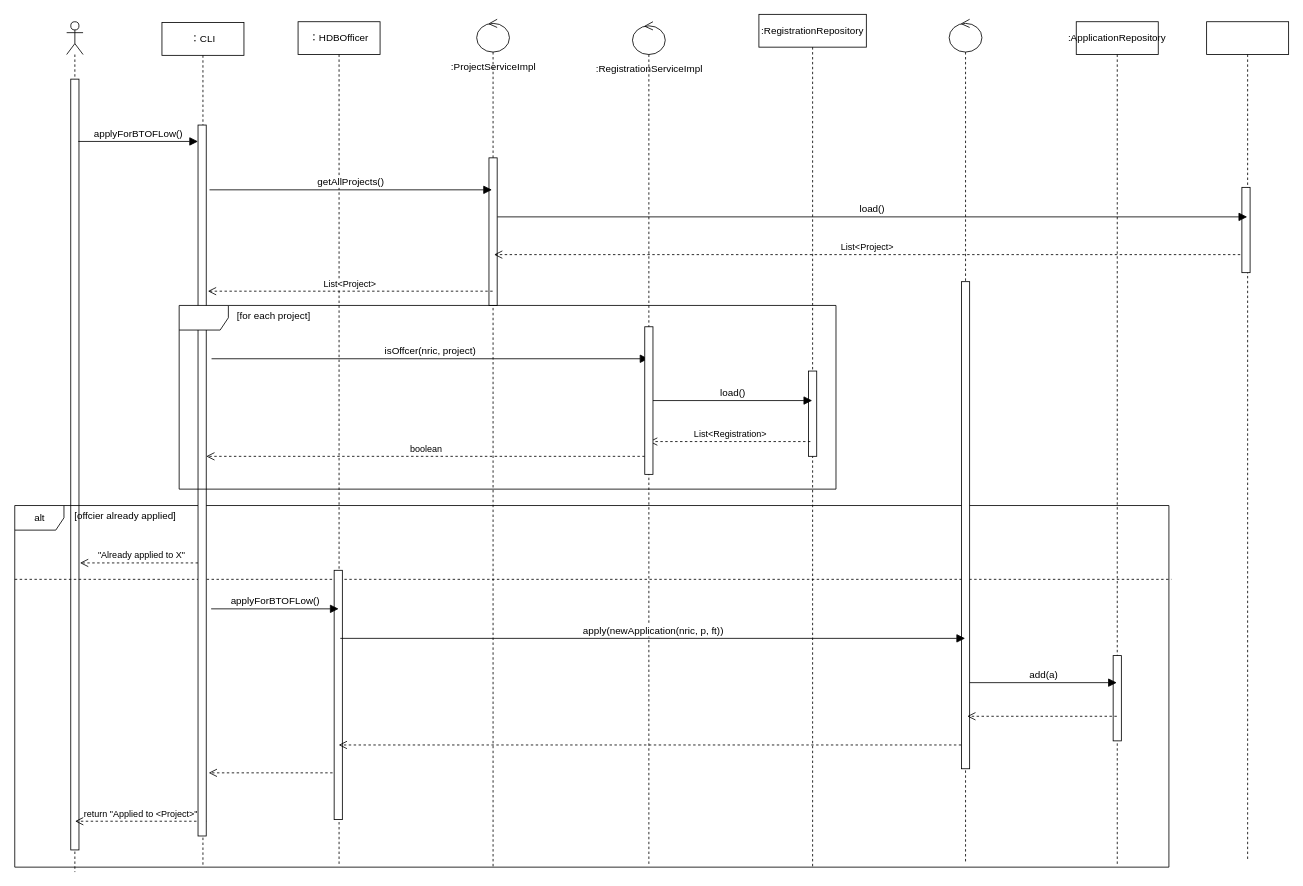
Some shapes in this 1303 by 886 pixel diagram are drawn without their labels. Here are the shapes that lost their labels. From the top down, the box of each, then its label:
(178, 305, 836, 489): loop
(66, 21, 83, 872): HDBOfficer
(948, 18, 982, 864): :ApplicationServiceImpl
(1206, 21, 1289, 861): :ProjectRepository
